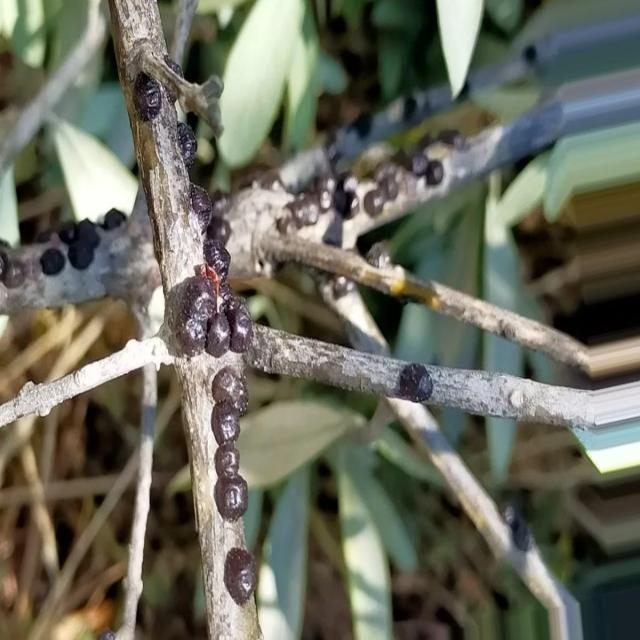Black Scale: (161, 237, 252, 357), (211, 367, 247, 521), (223, 549, 257, 605), (134, 72, 165, 121), (396, 364, 433, 403), (189, 182, 212, 231), (177, 121, 197, 169), (364, 187, 388, 226), (39, 245, 66, 276)
